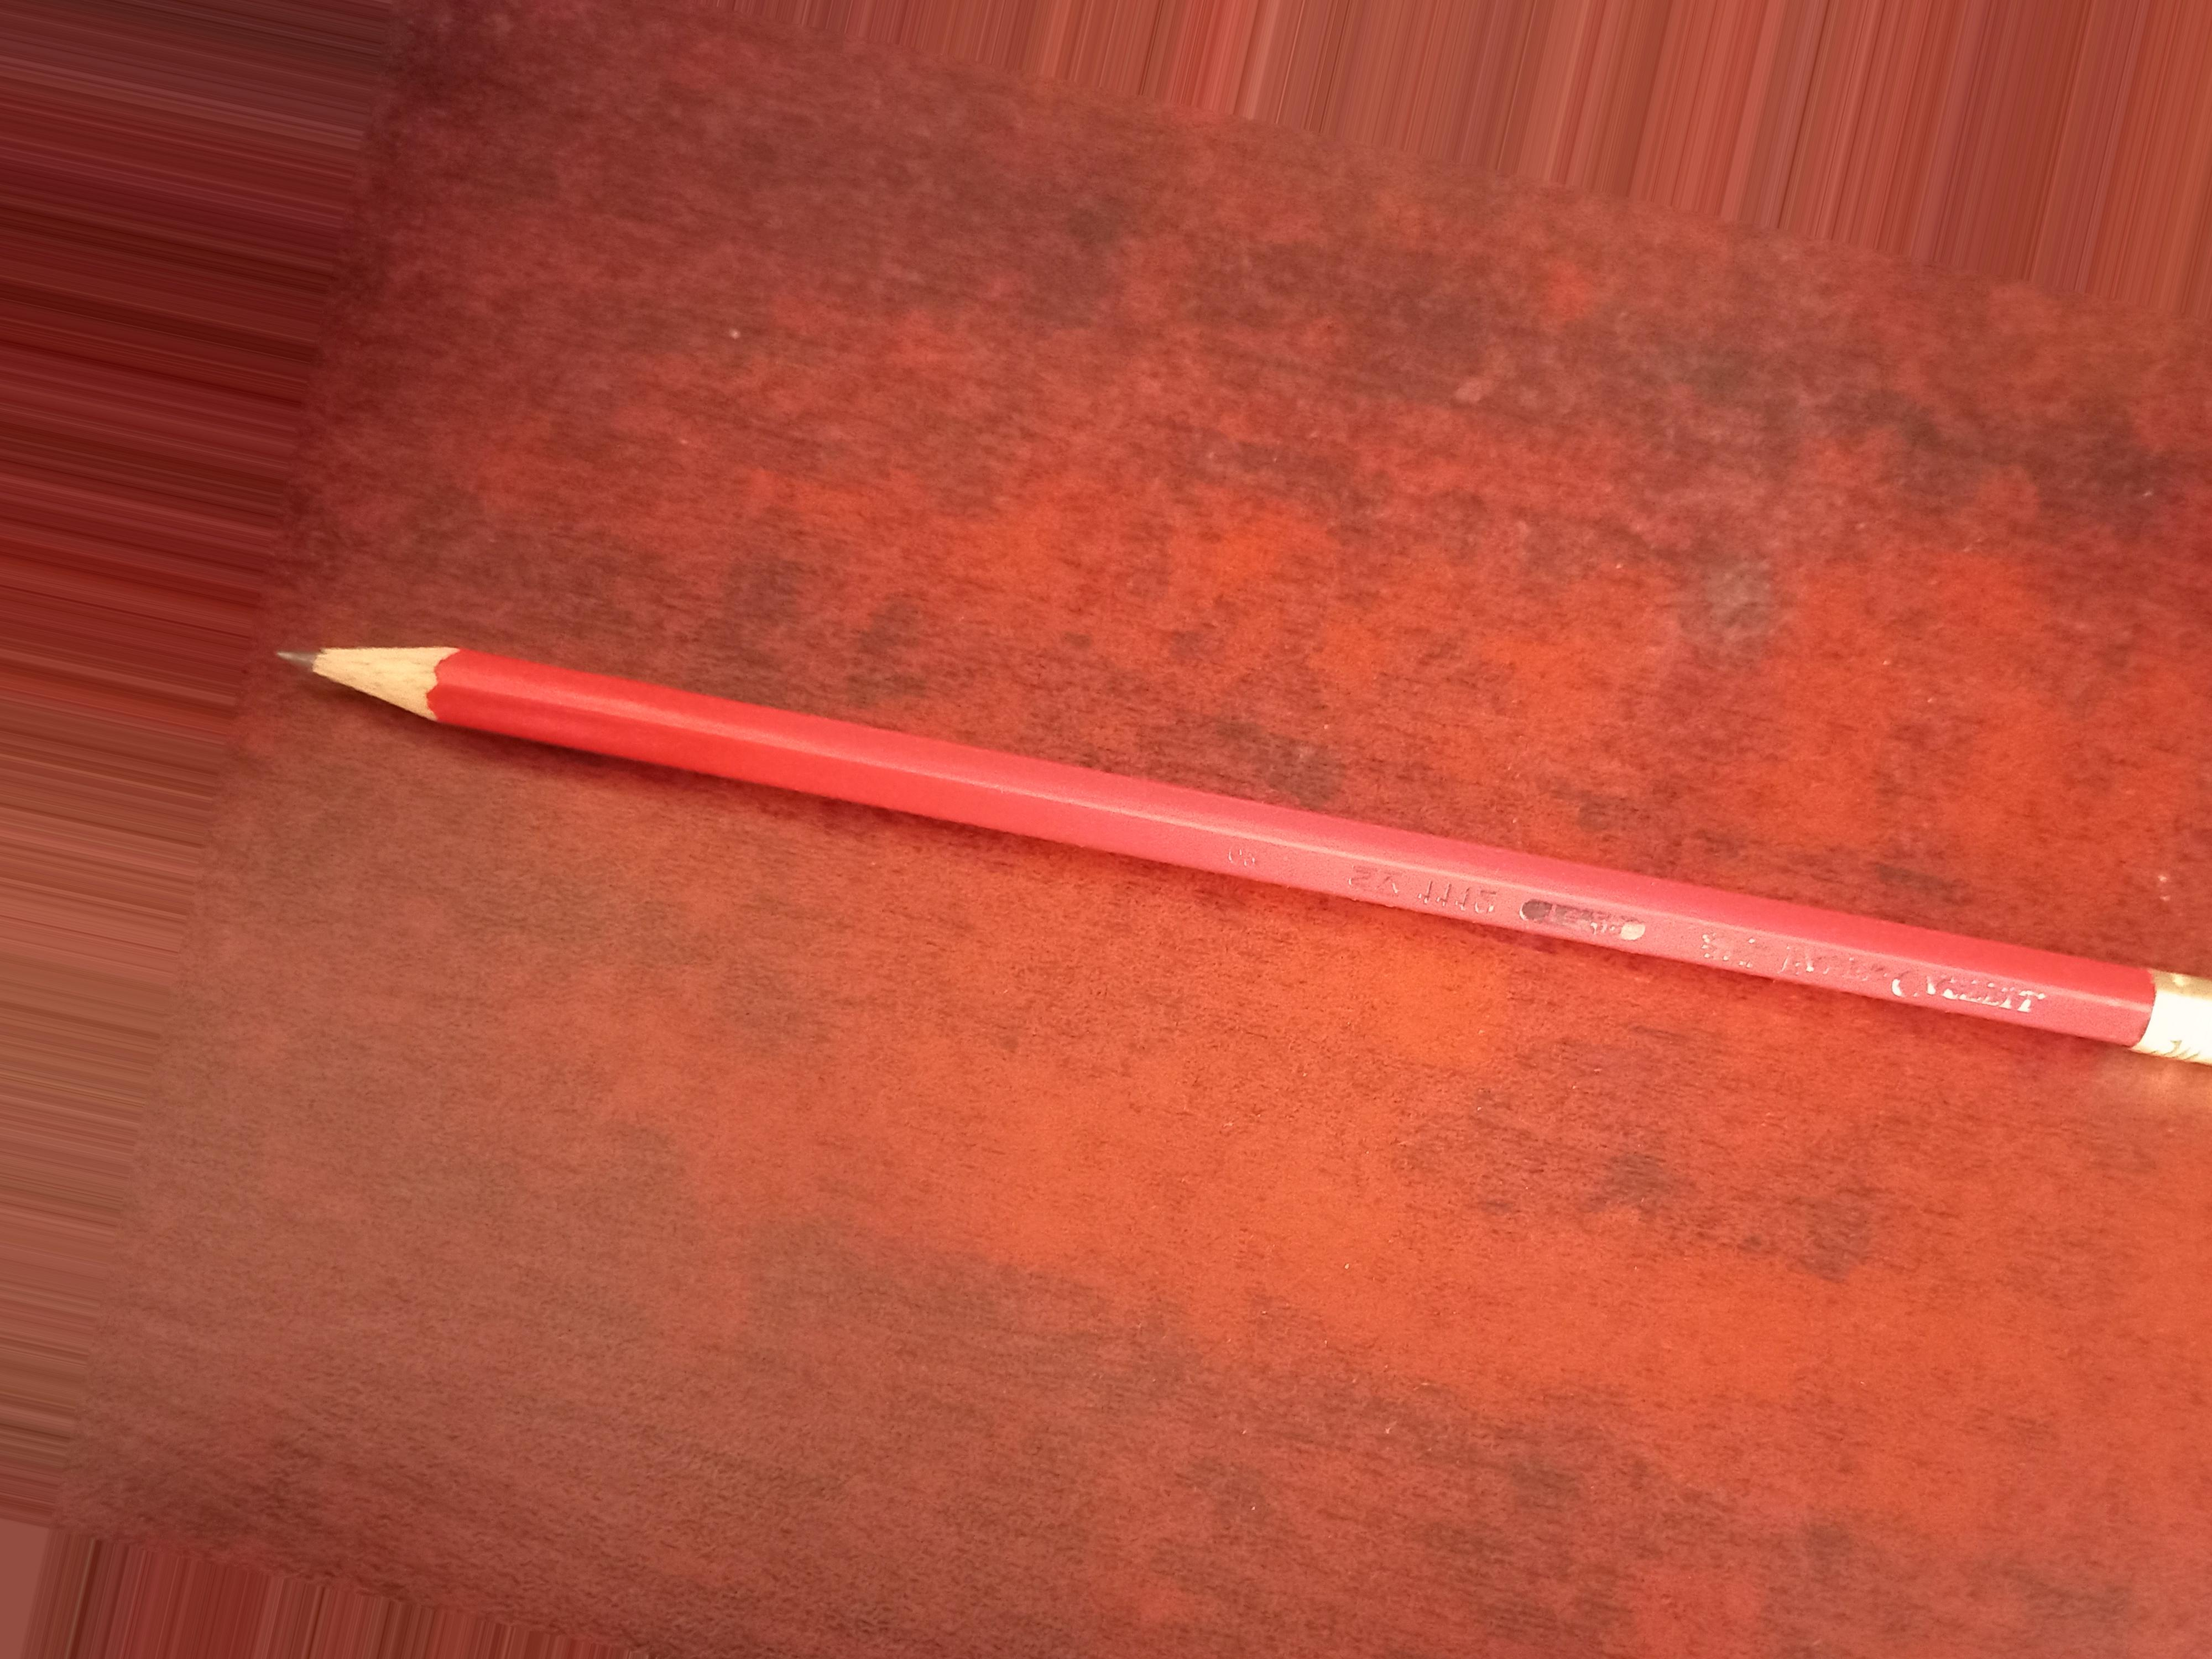pencil: (266, 655, 2212, 1086)
